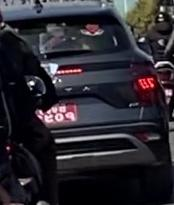license-plate: (37, 102, 80, 124)
